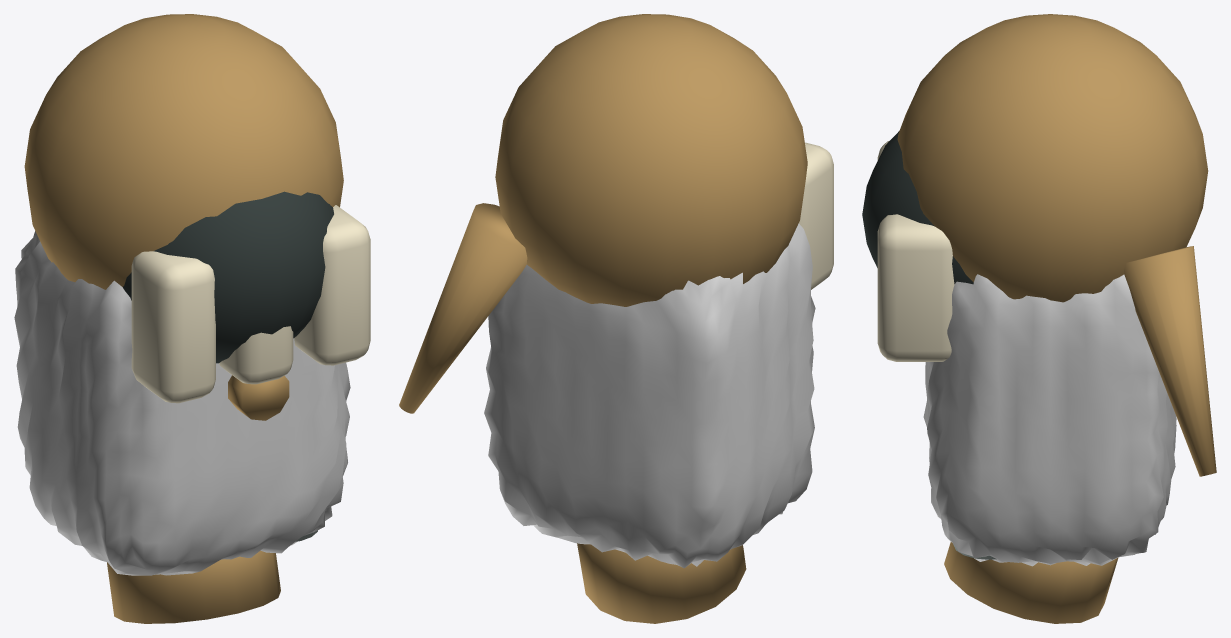
The model's file is hotshot-arm-1.glb.
3 renders of one model, left to right at view 1: azimuth 30°, elevation 25°; view 2: azimuth 150°, elevation 25°; view 3: azimuth 270°, elevation 25°, orthographic. The views are drawn at different scales.
Visible parts, largest first — view 1: lower_clay, upper_brass, hand_ivory, hand_mechanism, lower_brass; view 2: lower_clay, upper_brass, lower_brass, hand_ivory; view 3: upper_brass, lower_clay, lower_brass, hand_ivory, hand_mechanism.
Part boxes in pixels (x1,y1,x2,y2): lower_clay: [14, 231, 350, 575]; upper_brass: [24, 14, 343, 289]; hand_ivory: [131, 205, 370, 403]; hand_mechanism: [123, 191, 333, 363]; lower_brass: [107, 375, 289, 623]; lower_clay: [484, 223, 815, 568]; upper_brass: [495, 14, 807, 306]; lower_brass: [399, 203, 746, 623]; hand_ivory: [799, 142, 833, 289]; upper_brass: [897, 14, 1208, 302]; lower_clay: [923, 274, 1176, 566]; lower_brass: [944, 246, 1216, 623]; hand_ivory: [877, 141, 954, 361]; hand_mechanism: [862, 131, 973, 284].
Bounding box in the file's own units: 0.409 × 0.725 × 0.4047.
